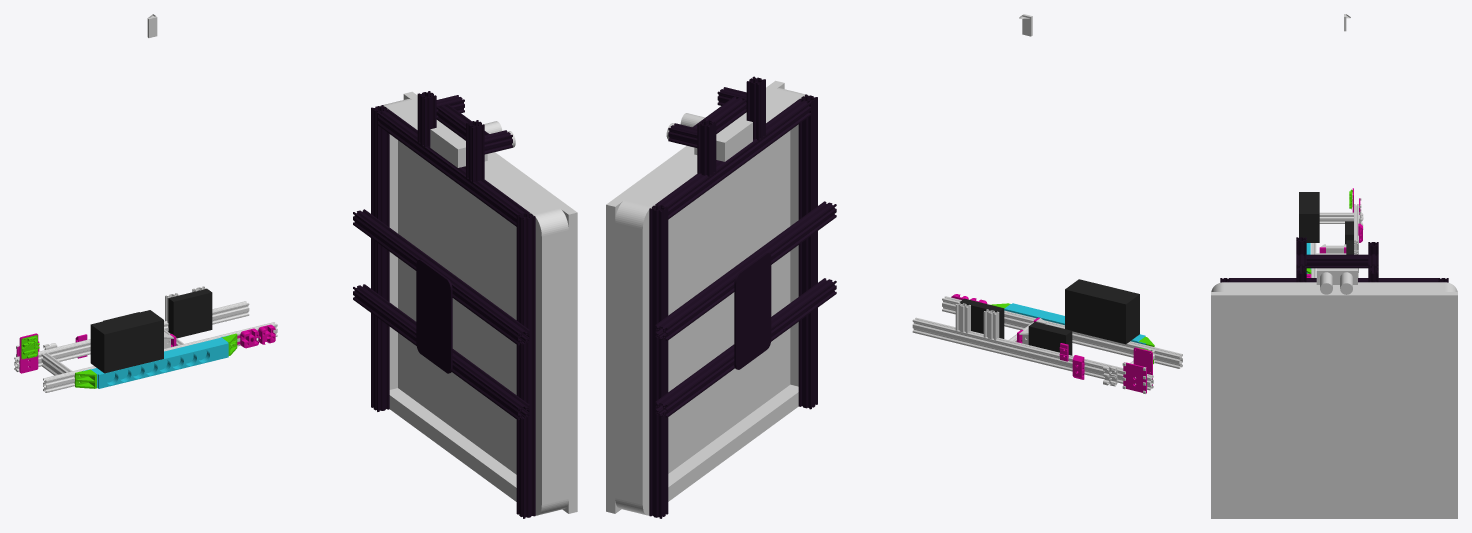
The model's file is brain.glb.
3 renders of one model, left to right at view 1: azimuth 30°, elevation 25°; view 2: azimuth 150°, elevation 25°; view 3: azimuth 270°, elevation 25°, orthographic. The views are drawn at different scales.
Visible parts, largest first — view 1: Cube.020, 4040-250.003, 4040-250.002, Cube.021, Cube.023, 4040-250.001, Plane, 4040-250, 4040-250.004, Cube.010, Cube, Perfil 2040 50 mm v2.001 (+5 smaller); view 2: Cube.020, 4040-250.002, 4040-250.003, Cube.021, Cube.023, 4040-250.001, Plane, 4040-250, Perfil 2040 50 mm v2.001, 4040-250.004, Perfil 2040 50 mm v2.006, Cube.022 (+6 smaller); view 3: Cube.021, Cube.020, Cube.023, 4040-250.007, 4040-250.004, Cube.022, Perfil 2040 50 mm v2.002, 4040-250.006.
Part boxes in pixels (left/top/right/bottom): Cube.020: left=379, top=99, right=568, bottom=515; 4040-250.003: left=516, top=211, right=535, bottom=518; 4040-250.002: left=371, top=105, right=389, bottom=411; Cube.021: left=403, top=91, right=577, bottom=513; Cube.023: left=90, top=310, right=163, bottom=373; 4040-250.001: left=353, top=209, right=529, bottom=345; Plane: left=416, top=259, right=452, bottom=373; 4040-250: left=353, top=284, right=529, bottom=420; 4040-250.004: left=378, top=110, right=528, bottom=226; Cube.010: left=92, top=337, right=228, bottom=388; Cube: left=168, top=289, right=212, bottom=338; Perfil 2040 50 mm v2.001: left=14, top=301, right=249, bottom=371; Cube.020: left=615, top=88, right=808, bottom=515; 4040-250.002: left=649, top=204, right=668, bottom=518; 4040-250.003: left=798, top=94, right=817, bottom=409; Cube.021: left=606, top=80, right=784, bottom=513; Cube.023: left=1065, top=279, right=1139, bottom=344; 4040-250.001: left=655, top=201, right=836, bottom=340; Plane: left=734, top=253, right=771, bottom=369; 4040-250: left=655, top=278, right=836, bottom=417; Perfil 2040 50 mm v2.001: left=912, top=317, right=1153, bottom=390; 4040-250.004: left=656, top=99, right=810, bottom=219; Perfil 2040 50 mm v2.006: left=942, top=296, right=1182, bottom=368; Cube.022: left=694, top=118, right=752, bottom=161; Cube.021: left=1211, top=292, right=1457, bottom=518; Cube.020: left=1211, top=282, right=1457, bottom=291; Cube.023: left=1299, top=192, right=1319, bottom=242; 4040-250.007: left=1306, top=254, right=1368, bottom=268; 4040-250.004: left=1230, top=278, right=1438, bottom=282; Cube.022: left=1316, top=268, right=1357, bottom=284; Perfil 2040 50 mm v2.002: left=1319, top=212, right=1353, bottom=223; 4040-250.006: left=1296, top=237, right=1306, bottom=282.
Bounding box in the file's own units: 1.6 × 1.64 × 0.96.
